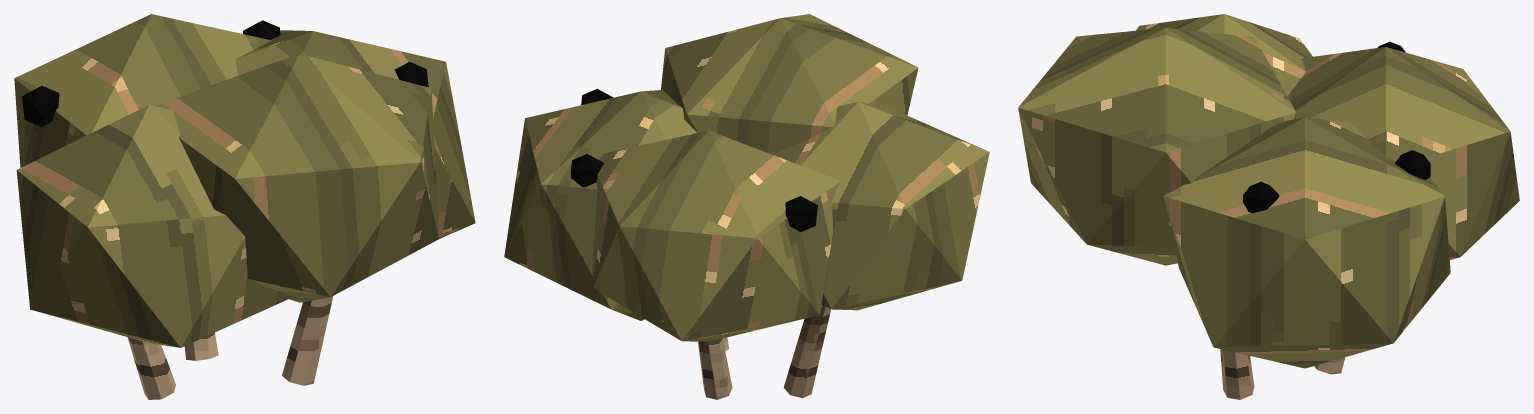
The model's file is arbusto.fbx.
The picture shows the model from 3 angles, left to right: view 1: azimuth 30°, elevation 25°; view 2: azimuth 150°, elevation 25°; view 3: azimuth 270°, elevation 25°; orthographic projection. The views are drawn at different scales.
Parts seen in each view (by area): view 1: deserto_arbusto; view 2: deserto_arbusto; view 3: deserto_arbusto.
Boxes of the visible parts, <box> form: deserto_arbusto: <box>14,14,475,399</box>; deserto_arbusto: <box>504,14,989,399</box>; deserto_arbusto: <box>1018,14,1519,399</box>.
Size of the model in its own units: 68.92 by 52.52 by 68.39.
Materials: 3 (2 with a texture image).
